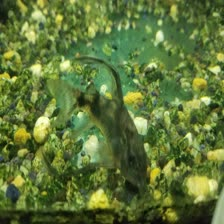Kiros: (39, 52, 182, 212)
